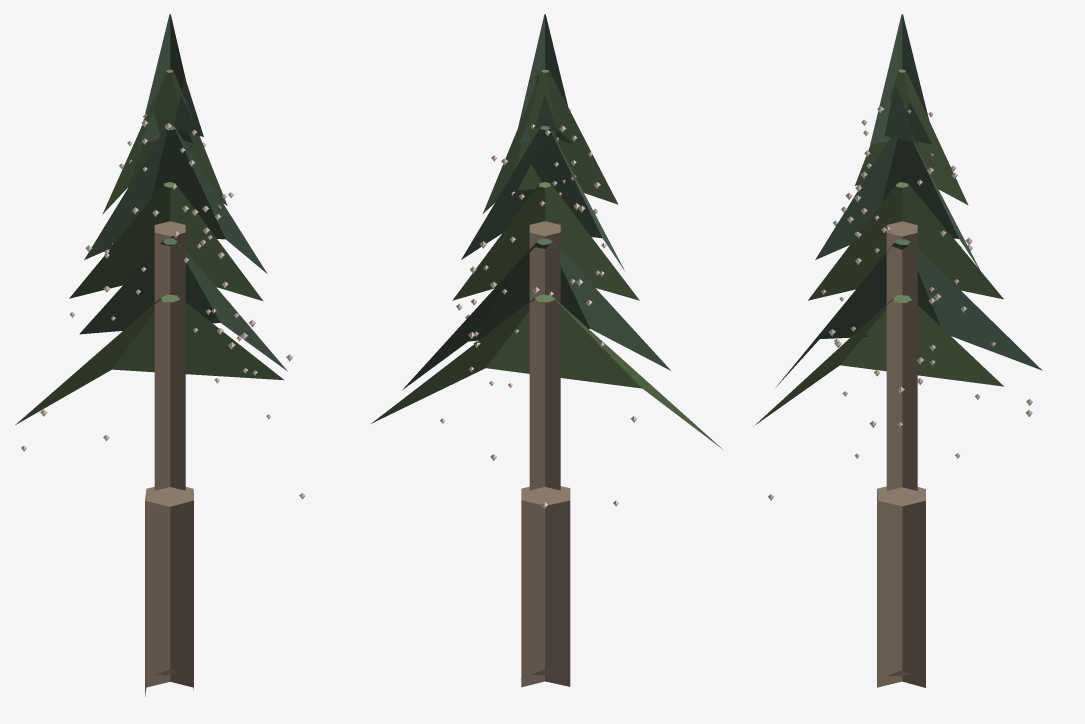
The model's file is shu.masan__bloom.glb.
3 views of the same model, side by side, from view 1: azimuth 30°, elevation 25°; view 2: azimuth 150°, elevation 25°; view 3: azimuth 270°, elevation 25° (orthographic).
Parts seen in each view (by area): view 1: shu.masan__bloom; view 2: shu.masan__bloom; view 3: shu.masan__bloom.
Part boxes in pixels (box(x1,y1,x2,y2)): shu.masan__bloom: box(15, 14, 305, 696); shu.masan__bloom: box(371, 14, 722, 687); shu.masan__bloom: box(753, 14, 1042, 687).
Bounding box in the file's own units: 8.49 × 18.78 × 7.95.
